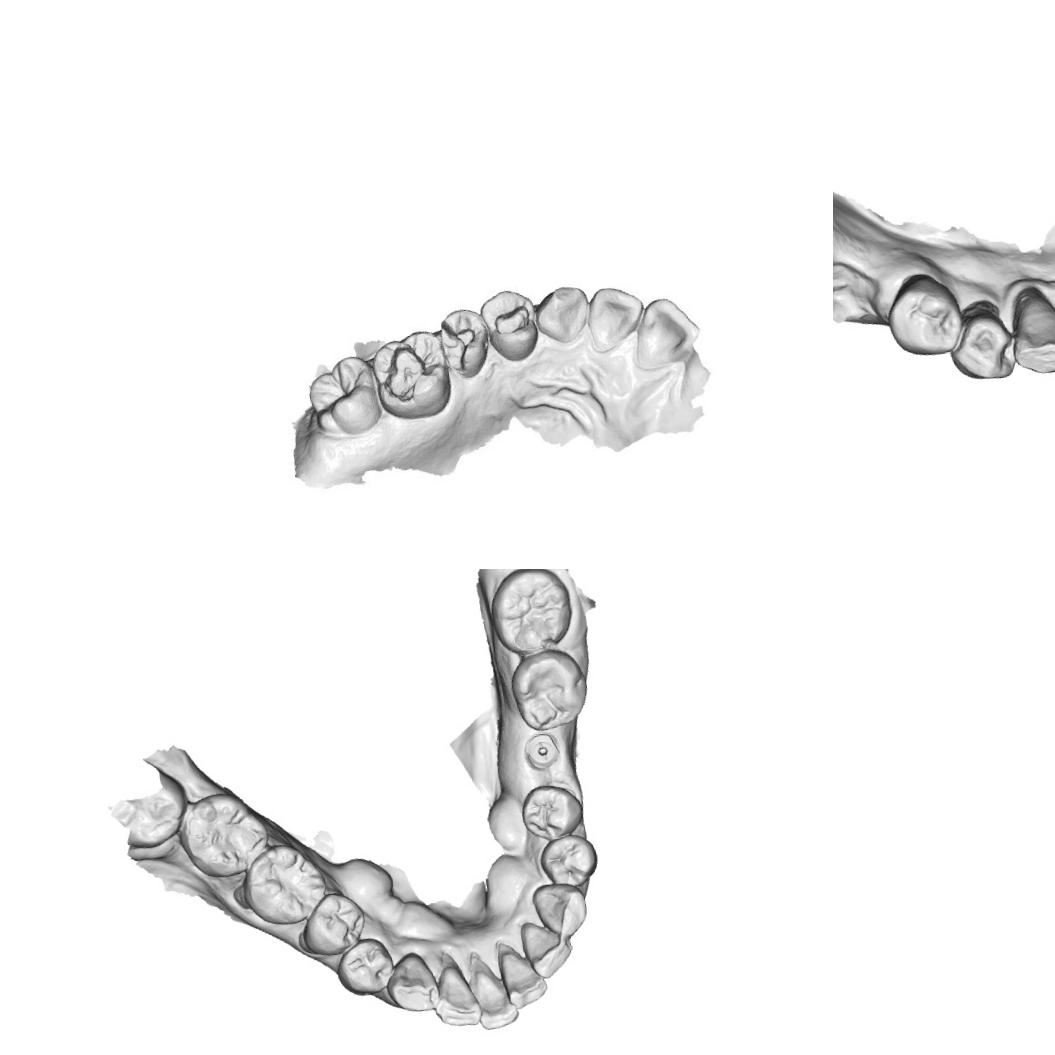canine: (1002, 280, 1055, 380), (532, 282, 593, 350), (382, 950, 442, 1017), (532, 879, 592, 941)
implant_minus: (521, 730, 563, 773)
incisor: (633, 290, 702, 371), (426, 958, 484, 1034), (586, 284, 648, 350), (520, 917, 576, 984), (470, 963, 522, 1033), (498, 945, 550, 1010)
inlay: (376, 335, 444, 410), (433, 306, 487, 378), (488, 294, 536, 345)
molar: (174, 786, 275, 886), (485, 569, 578, 659), (237, 838, 324, 932), (300, 352, 388, 444), (507, 647, 590, 735)
premolar: (880, 266, 962, 361), (952, 311, 1018, 386), (301, 894, 367, 960), (516, 780, 584, 844), (334, 934, 398, 998), (537, 831, 601, 890)
